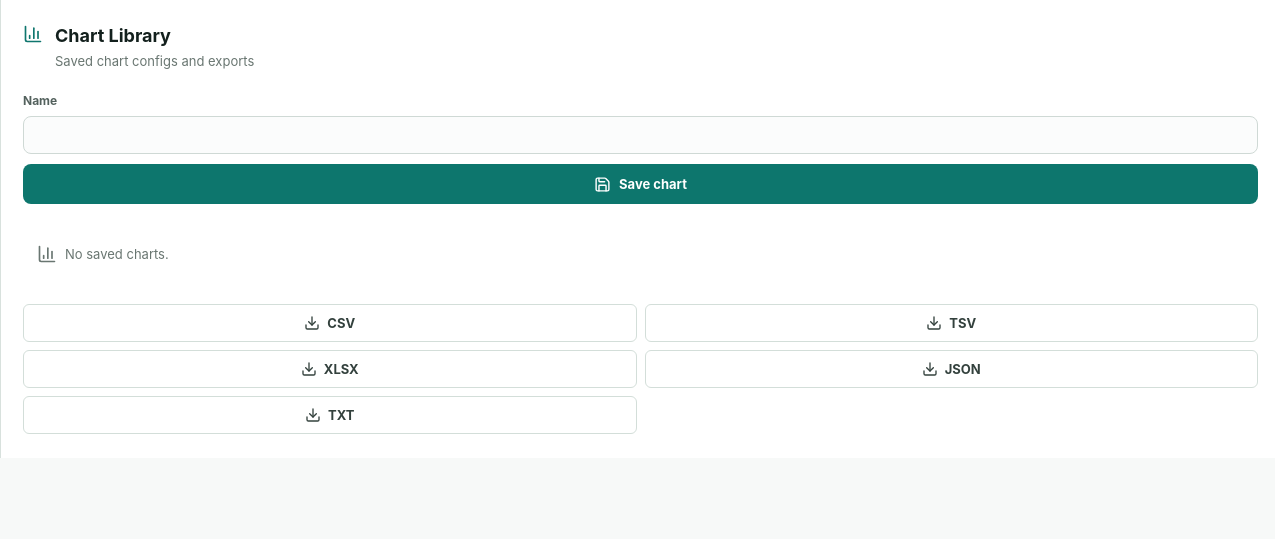
Test: ChartsDetails export › reports a failed export
Step 1. Click the button "JSON" → click(951, 369), box left=644, top=350, right=1258, bottom=388
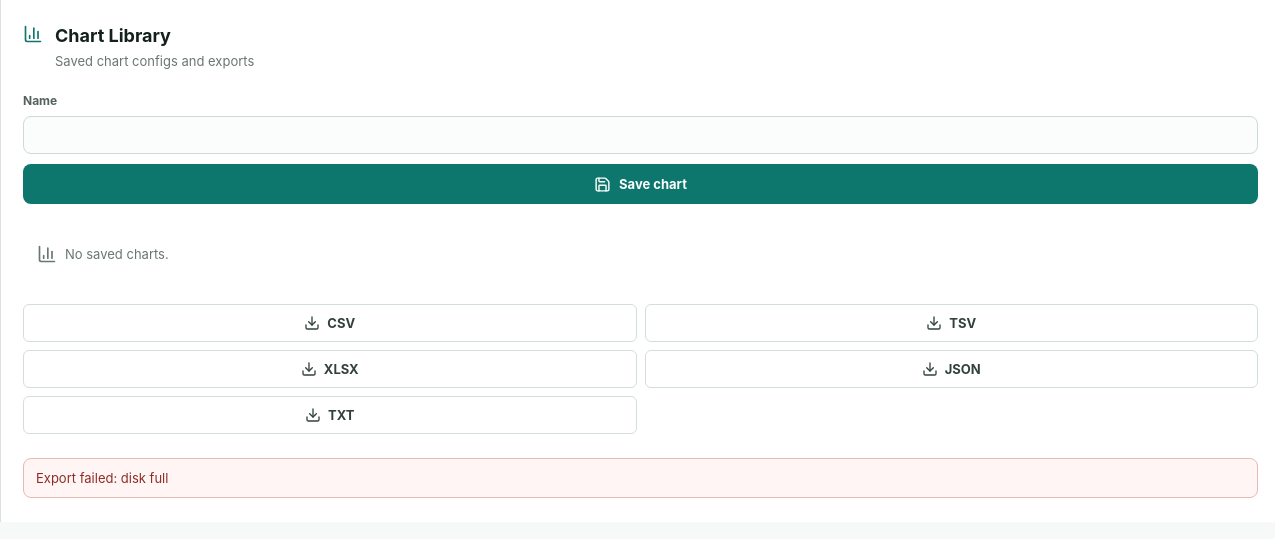
Now the message reads "Export failed: disk full", box left=23, top=458, right=1258, bottom=498
